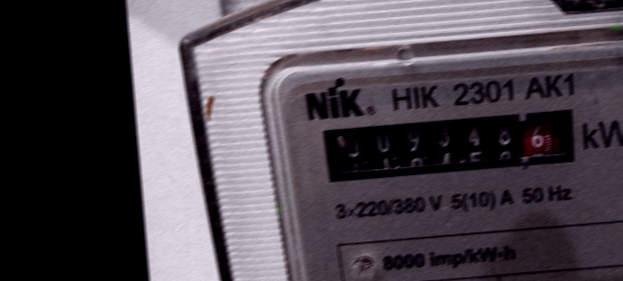0: (346, 132, 362, 159), (376, 129, 393, 153)
3: (437, 123, 453, 150)
4: (467, 120, 483, 148)
6: (529, 122, 548, 150)
8: (497, 119, 514, 148)
9: (406, 126, 423, 154)
screen: (315, 101, 588, 192)
